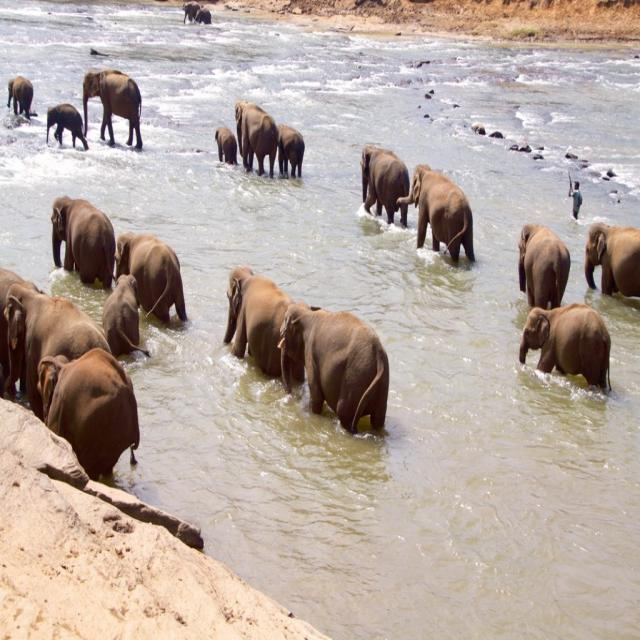elephant: (3, 284, 113, 418), (280, 299, 388, 435), (38, 350, 143, 480), (516, 302, 610, 394), (223, 262, 295, 382), (396, 160, 476, 268), (114, 230, 188, 332), (50, 194, 118, 286), (83, 67, 142, 148), (582, 219, 639, 301), (518, 223, 570, 308), (101, 273, 150, 357), (361, 148, 408, 231), (0, 262, 28, 396), (233, 100, 276, 177), (46, 103, 88, 148), (277, 120, 305, 178), (5, 76, 33, 120), (214, 124, 237, 164), (181, 0, 200, 25), (193, 8, 211, 22)
